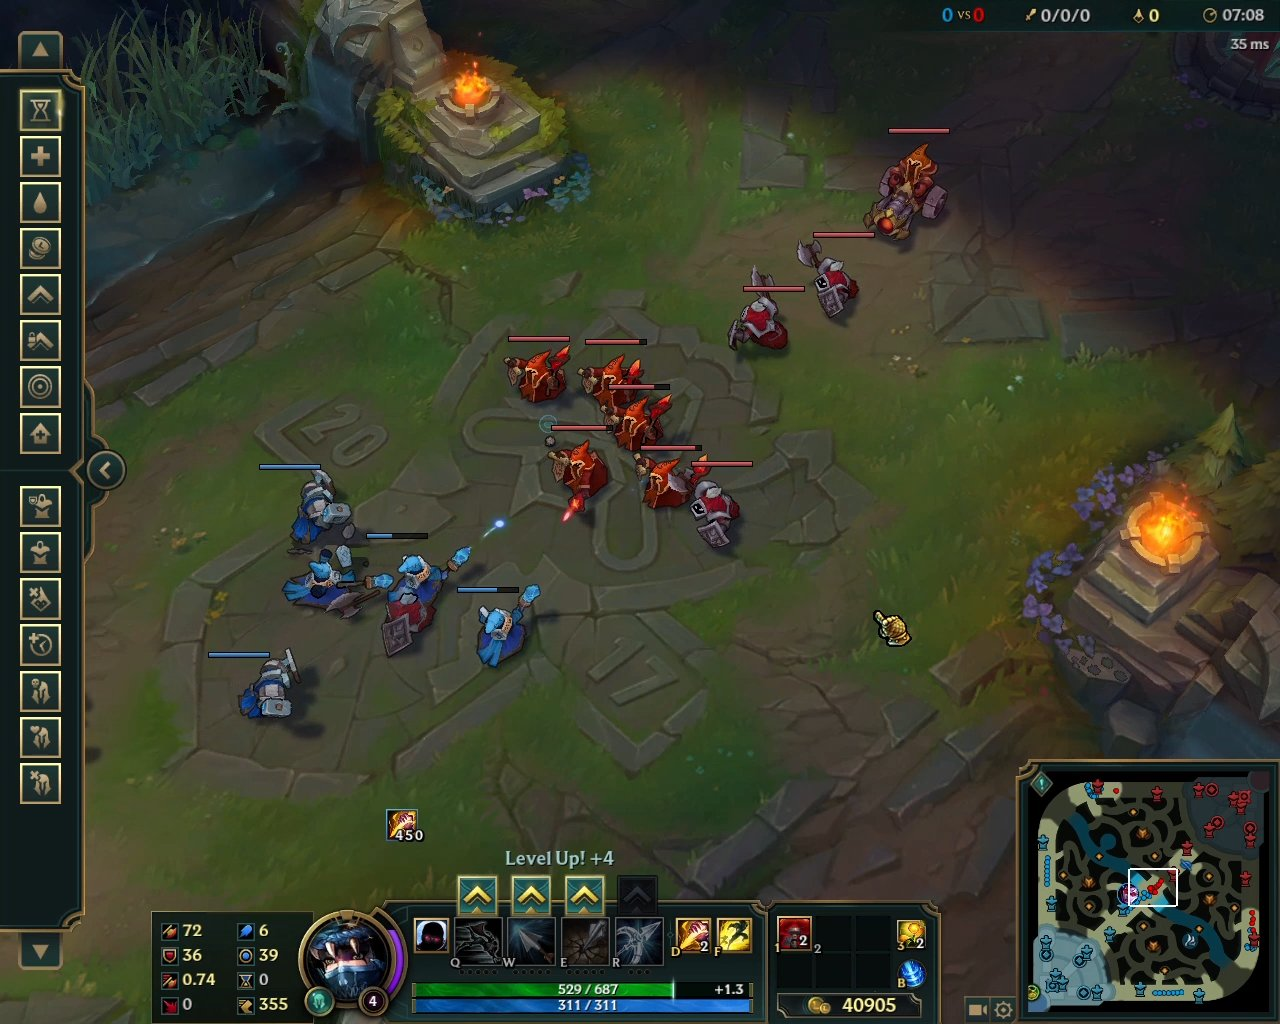EnemyMinion: (862, 125, 955, 249), (792, 228, 876, 328), (718, 267, 807, 359), (670, 461, 753, 554), (540, 426, 615, 525), (627, 444, 709, 518), (579, 338, 649, 413), (601, 385, 674, 456), (501, 335, 571, 408)
